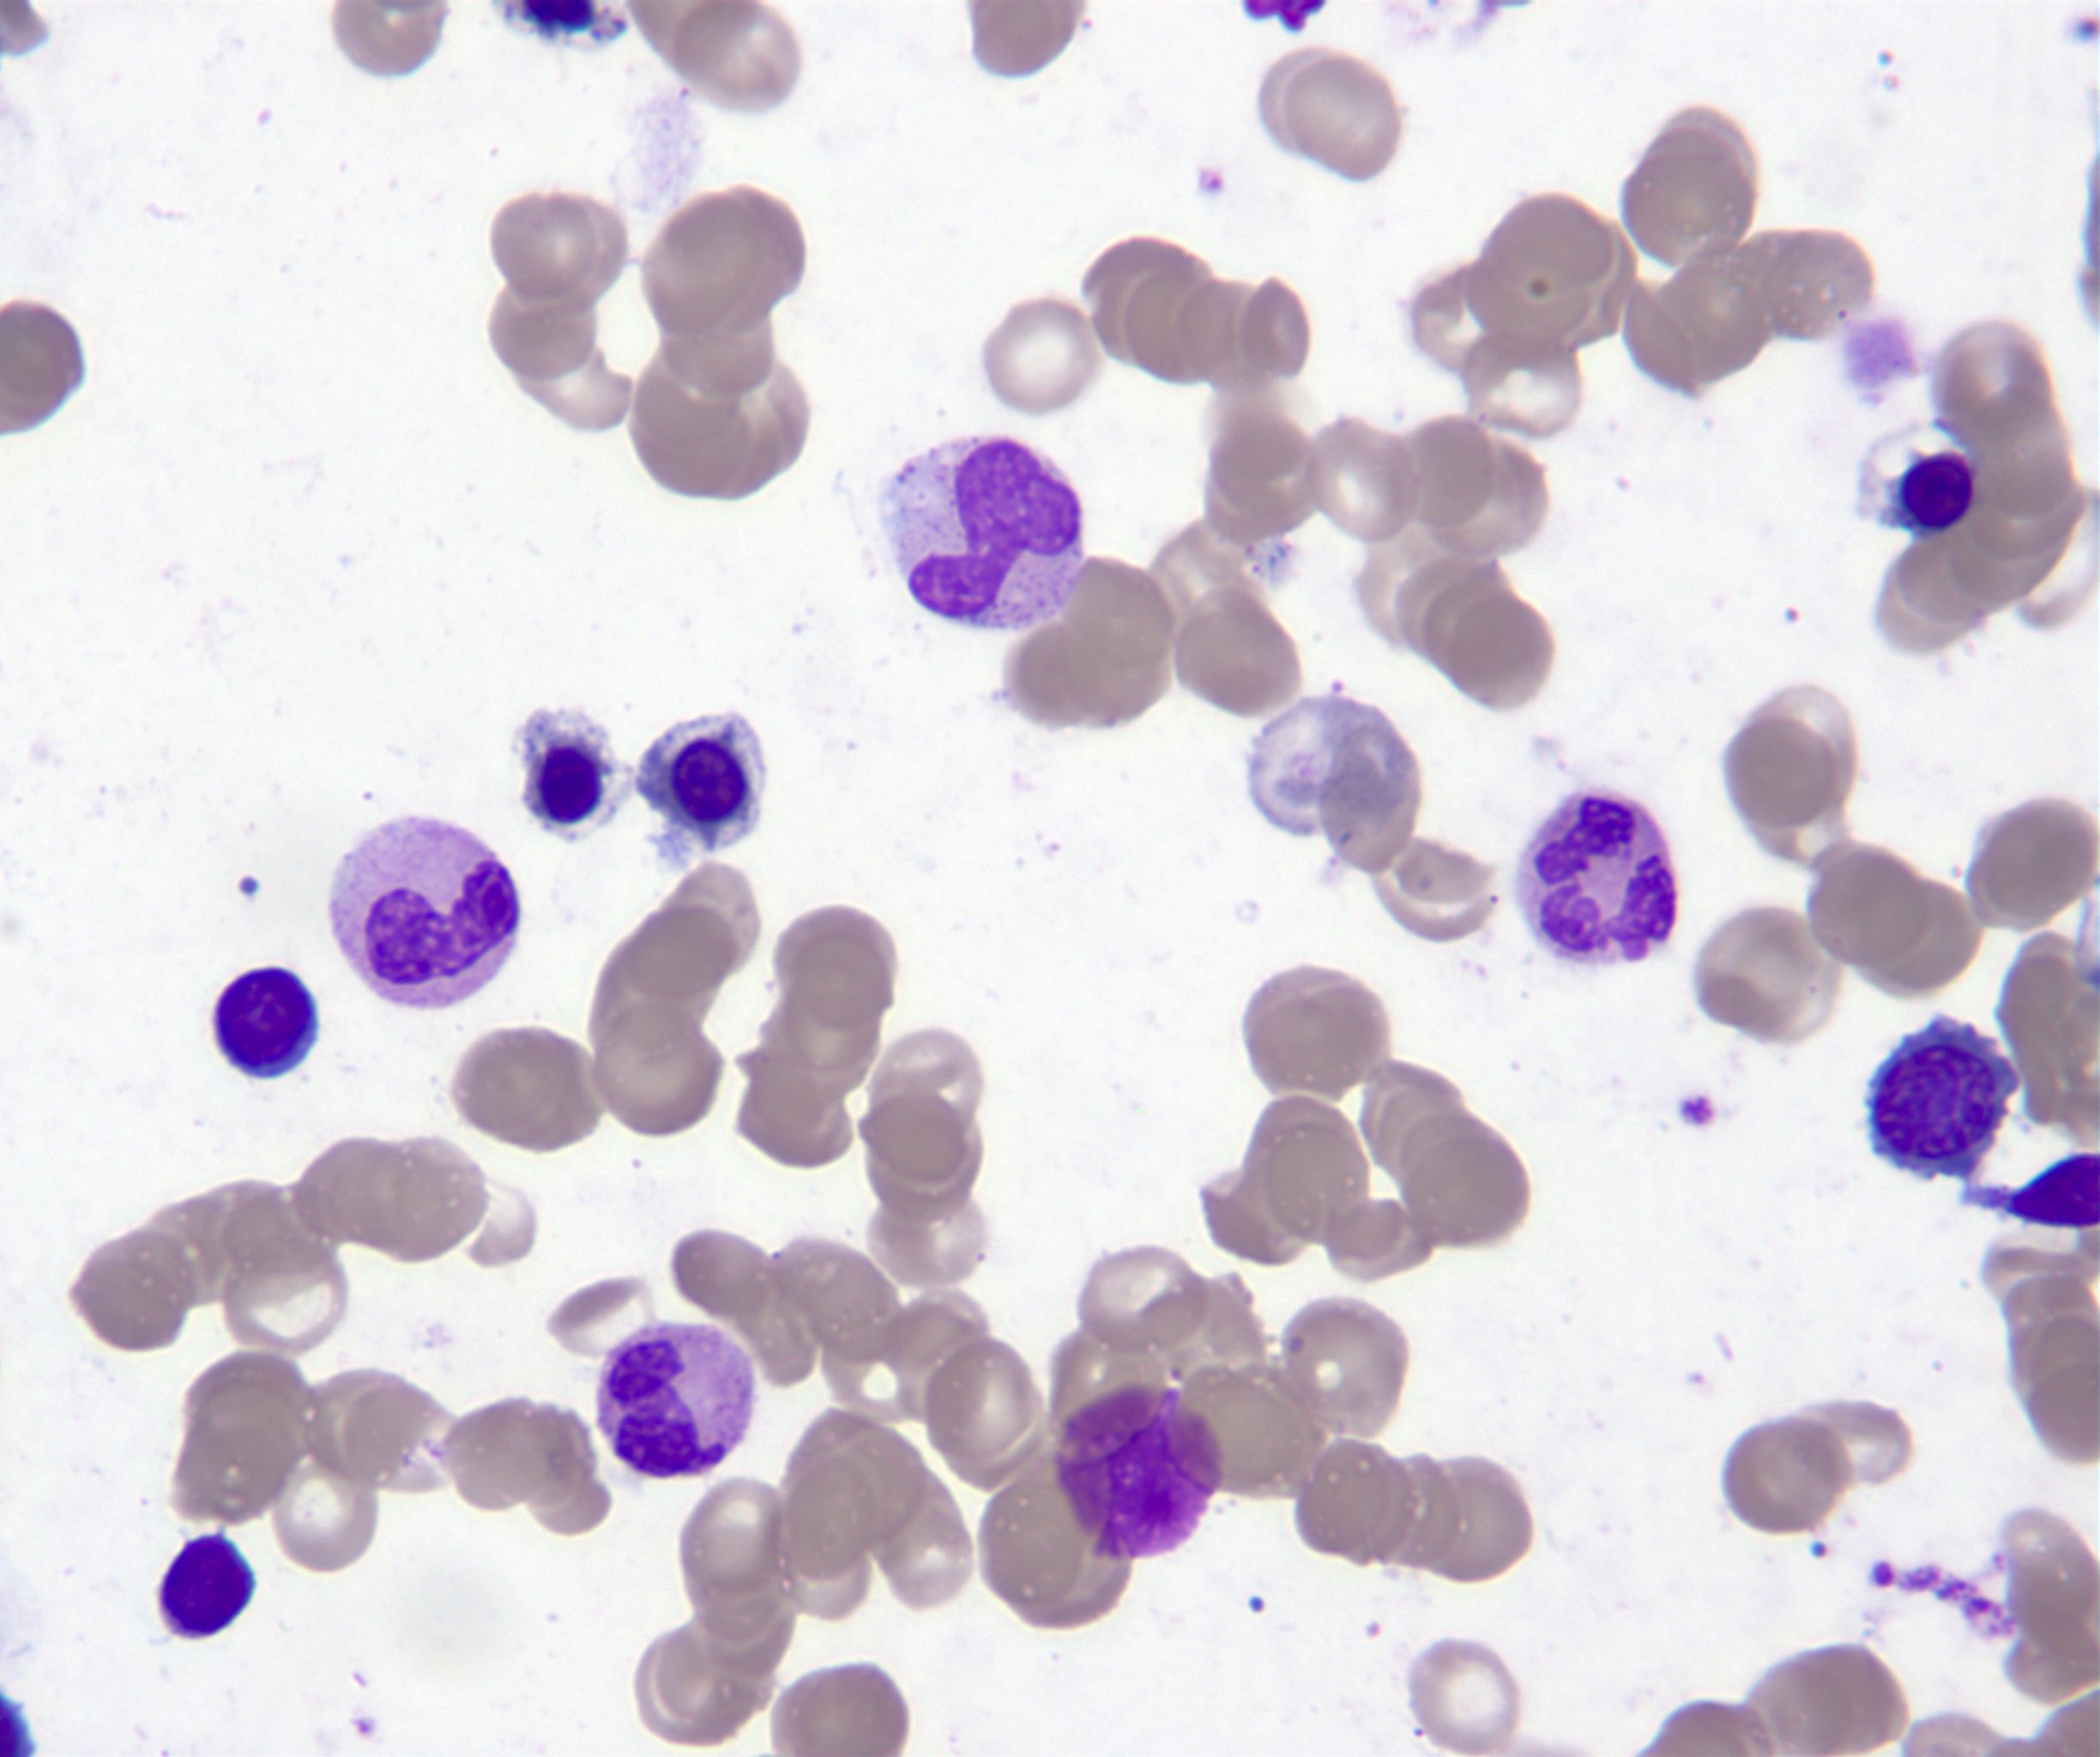23: (1863, 1014, 2018, 1183)
24: (635, 710, 764, 874), (515, 707, 633, 839), (1854, 422, 1980, 539)
32: (213, 968, 317, 1082), (157, 1534, 255, 1640)
5: (330, 817, 520, 1010)
6: (881, 438, 1083, 632), (1517, 787, 1676, 968), (597, 1323, 752, 1478)
x: (1053, 1385, 1223, 1558), (1966, 1153, 2100, 1230)
